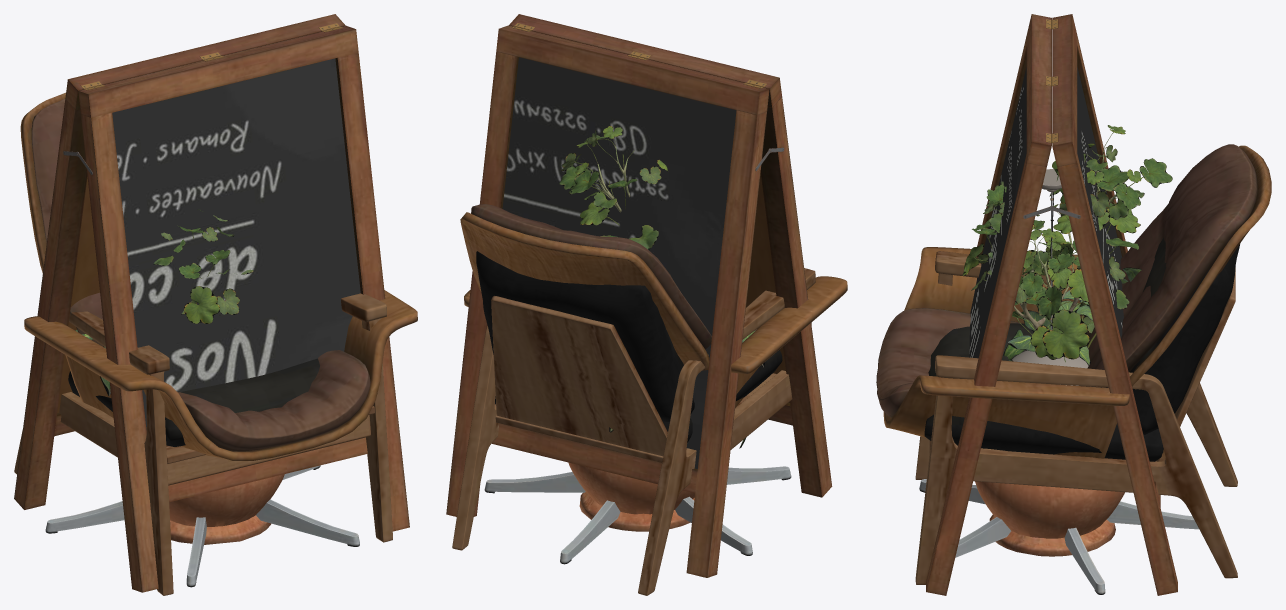
The model's file is decor-librairie.glb.
3 views of the same model, side by side, from view 1: azimuth 30°, elevation 25°; view 2: azimuth 150°, elevation 25°; view 3: azimuth 270°, elevation 25° (orthographic). The views are drawn at different scales.
Visible parts, largest first — view 1: standing_chalkboard_01, mid_century_lounge_chair, modern_arm_chair_01, potted_plant_02_pot, potted_plant_01_leaves, potted_plant_01_pot; view 2: standing_chalkboard_01, modern_arm_chair_01, mid_century_lounge_chair, potted_plant_01_leaves, potted_plant_02_pot, potted_plant_01_pot; view 3: mid_century_lounge_chair, standing_chalkboard_01, modern_arm_chair_01, potted_plant_01_leaves, potted_plant_02_pot, potted_plant_01_pot, potted_plant_02_leaves, modern_ceiling_lamp_01, potted_plant_01_stem.
Part boxes in pixels (box(x1,y1,x2,y2)): standing_chalkboard_01: box(14, 14, 409, 592); mid_century_lounge_chair: box(20, 92, 417, 587); modern_arm_chair_01: box(14, 293, 392, 595); potted_plant_02_pot: box(169, 474, 284, 526); potted_plant_01_leaves: box(153, 209, 253, 323); potted_plant_01_pot: box(170, 515, 271, 544); standing_chalkboard_01: box(446, 14, 832, 577); modern_arm_chair_01: box(452, 251, 815, 595); mid_century_lounge_chair: box(460, 204, 847, 564); potted_plant_01_leaves: box(559, 126, 668, 249); potted_plant_02_pot: box(568, 462, 694, 514); potted_plant_01_pot: box(579, 492, 694, 531); mid_century_lounge_chair: box(876, 144, 1271, 594); standing_chalkboard_01: box(926, 14, 1177, 595); modern_arm_chair_01: box(915, 238, 1239, 584); potted_plant_01_leaves: box(962, 125, 1172, 359); potted_plant_02_pot: box(975, 481, 1124, 538); potted_plant_01_pot: box(989, 514, 1115, 556); potted_plant_02_leaves: box(1003, 267, 1141, 365); modern_ceiling_lamp_01: box(1012, 169, 1088, 385); potted_plant_01_stem: box(1014, 151, 1123, 329).
Bounding box in the file's own units: 1.01 × 1.51 × 1.19.
11 materials, 11 textured.
